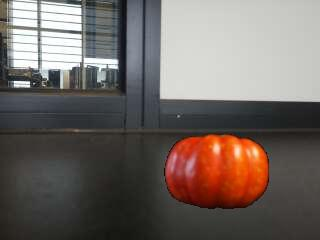Pumpkin: (165, 133, 272, 209)
